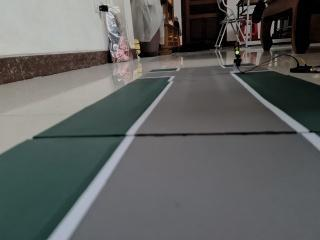green: (230, 38, 246, 65)
